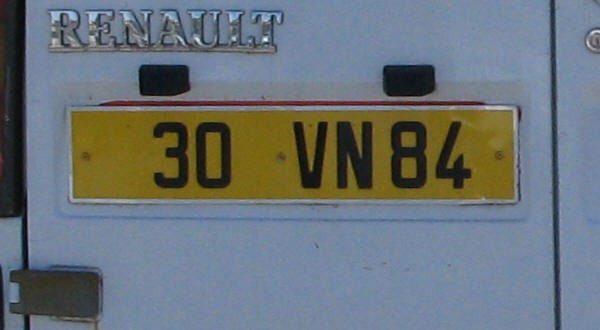license_plate: (66, 104, 518, 205)
